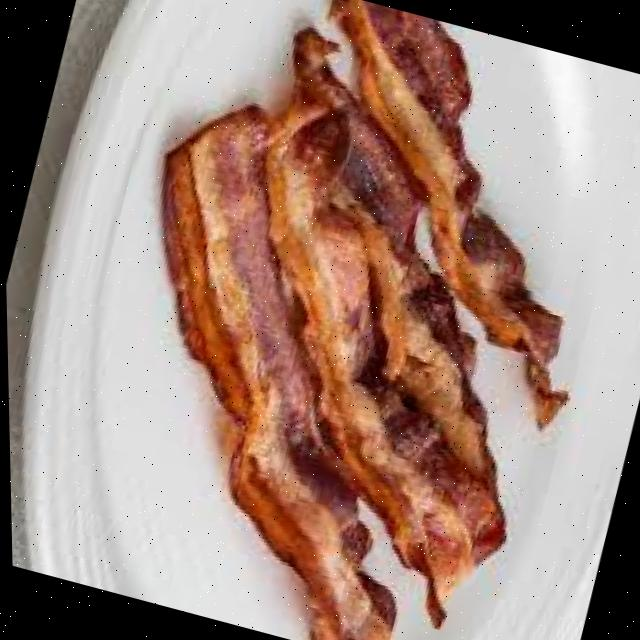Bacon: (162, 106, 391, 640), (265, 105, 499, 626), (331, 0, 564, 427), (303, 63, 491, 481)
